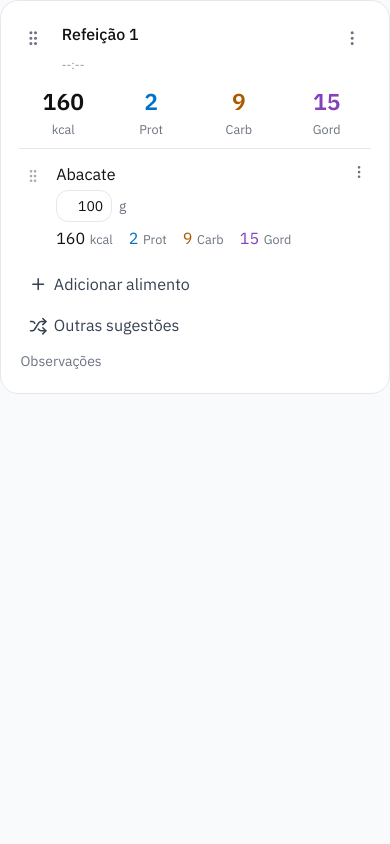
it: other suggestions › opens to an empty state when nothing was saved yet
Step 1. Click the button "Outras sugestões" → x=104, y=326, box top-left (19, 307), bottom-right (188, 344)
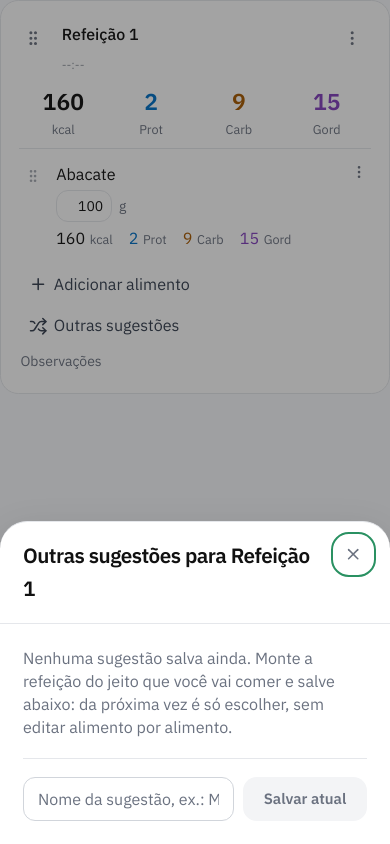
Result: the text "Nenhuma sugestão salva ainda" is shown at top-left (23, 647), bottom-right (335, 737)
